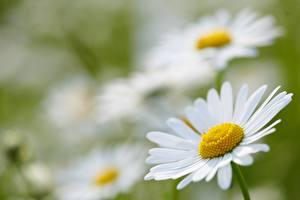chamomile: (148, 115, 260, 178), (184, 35, 263, 61)
